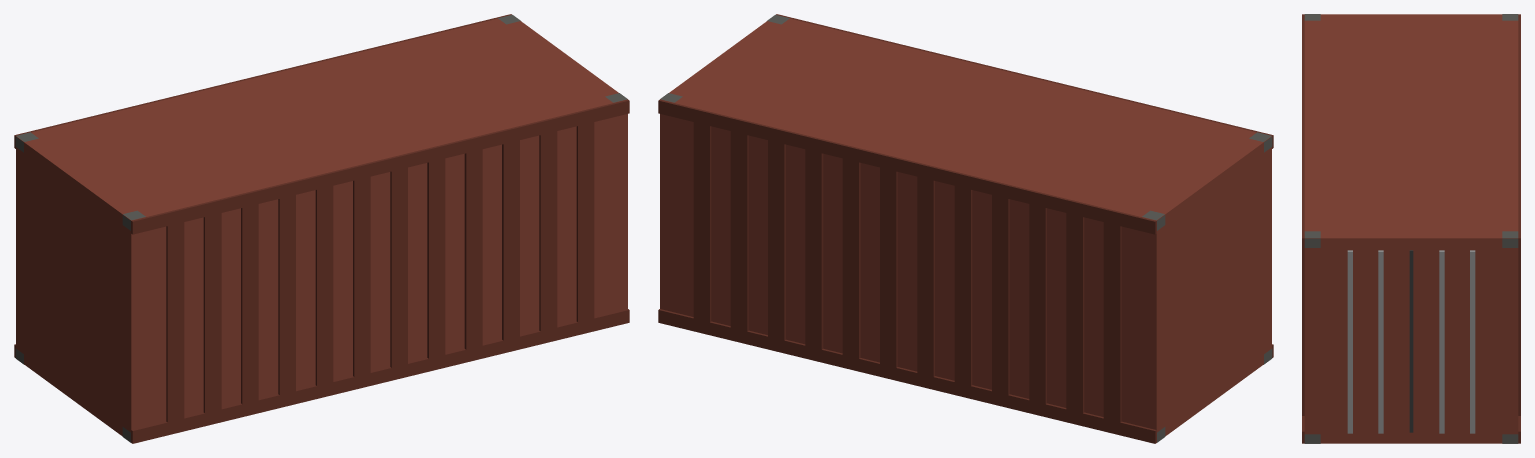
File: industrial.yard.container_red.glb
The picture shows the model from 3 angles, left to right: view 1: azimuth 30°, elevation 25°; view 2: azimuth 150°, elevation 25°; view 3: azimuth 270°, elevation 25°; orthographic projection. The views are drawn at different scales.
Visible parts, largest first — view 1: main__paint_843, main__paint_632, main__paint_555; view 2: main__paint_843, main__paint_632, main__paint_555; view 3: main__paint_843, main__paint_999, main__paint_632, main__paint_555, main__paint_333.
Part boxes in pixels (bbox=[...]): main__paint_843: bbox=[16, 18, 627, 442]; main__paint_632: bbox=[14, 14, 629, 443]; main__paint_555: bbox=[15, 14, 627, 442]; main__paint_843: bbox=[660, 18, 1271, 442]; main__paint_632: bbox=[658, 14, 1273, 443]; main__paint_555: bbox=[660, 14, 1272, 442]; main__paint_843: bbox=[1304, 14, 1518, 443]; main__paint_999: bbox=[1347, 250, 1475, 433]; main__paint_632: bbox=[1302, 14, 1520, 443]; main__paint_555: bbox=[1304, 14, 1518, 443]; main__paint_333: bbox=[1409, 250, 1413, 432].
Bounding box in the file's own units: 6.11 × 2.6 × 2.5.
